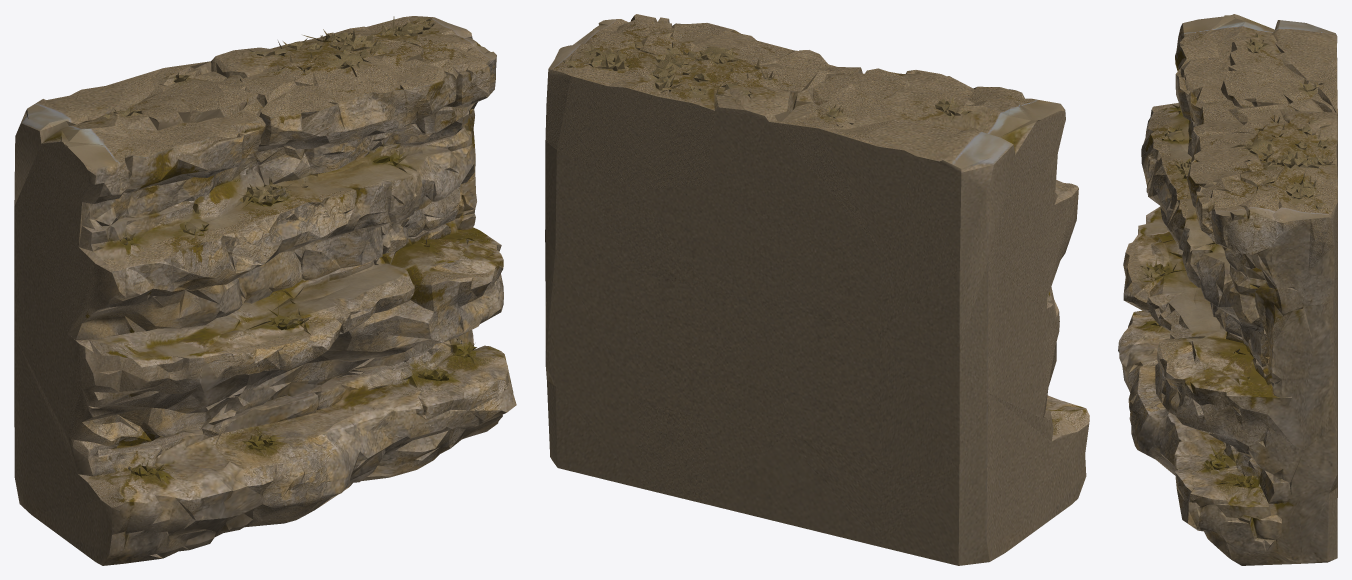
File: pared_estratos.glb
3 views of the same model, side by side, from view 1: azimuth 30°, elevation 25°; view 2: azimuth 150°, elevation 25°; view 3: azimuth 270°, elevation 25° (orthographic). The views are drawn at different scales.
Size of the model in its own units: 1.9 by 1.65 by 0.8893.
Materials: 1 (1 with a texture image).
